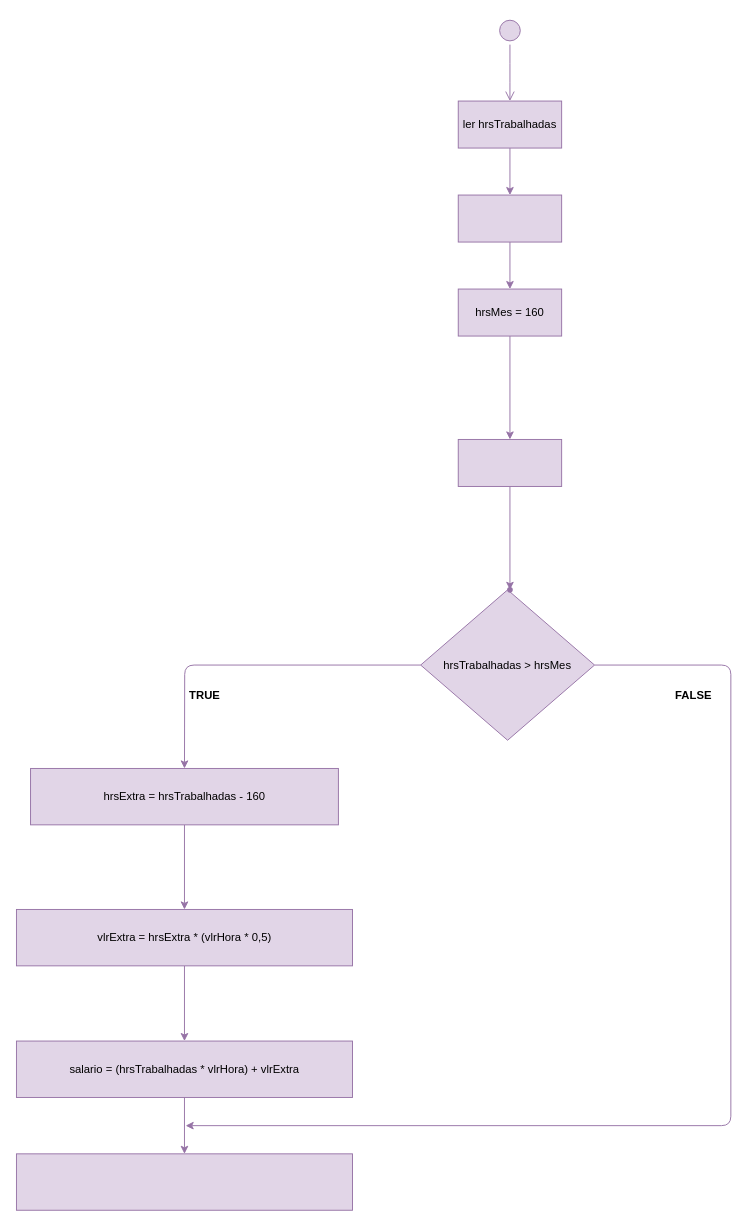
The diagram is 755 pixels wide and 1227 high, and some of its shapes have lost their labels. The centre of each missing label's shape, as x and y in pixels:
escrever salario: (x=184, y=1181)
ler vlrHora: (x=509, y=218)
salario = (hrsTrabalhadas * vlrHora): (x=509, y=462)
